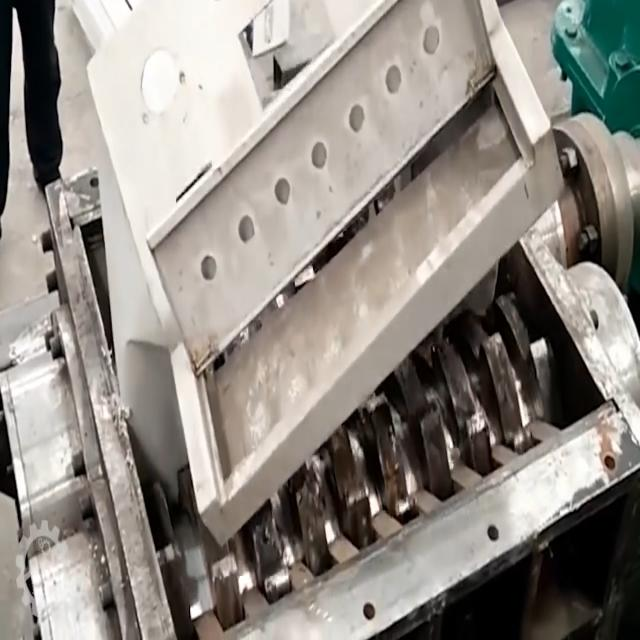Broyeur: (70, 138, 618, 640)
